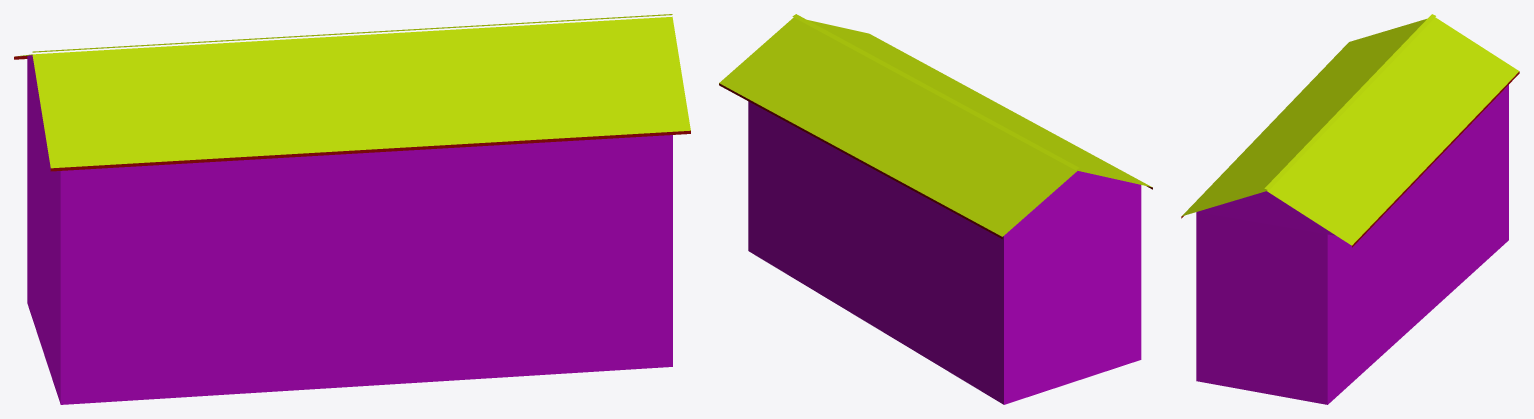
3 views of the same model, side by side, from view 1: azimuth 30°, elevation 25°; view 2: azimuth 150°, elevation 25°; view 3: azimuth 270°, elevation 25° (orthographic). The views are drawn at different scales.
Visible parts, largest first — view 1: sc_111; view 2: sc_111; view 3: sc_111.
Part boxes in pixels (bbox=[...]): sc_111: bbox=[14, 14, 690, 404]; sc_111: bbox=[719, 14, 1152, 404]; sc_111: bbox=[1181, 14, 1519, 404].
Bounding box in the file's own units: 23.91 × 11.45 × 16.77.
